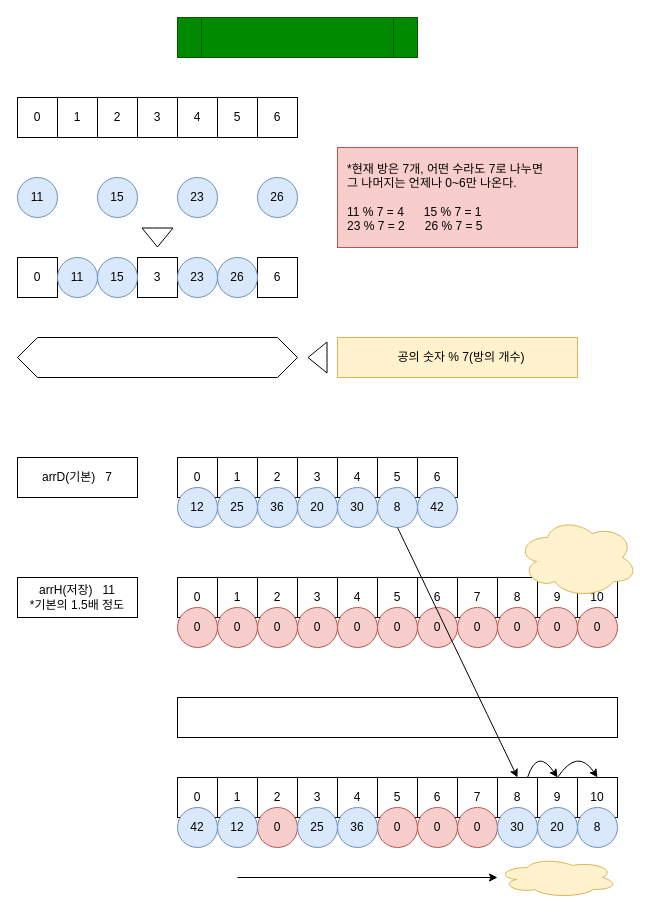
The diagram is 655 pixels wide and 915 high, and some of its shapes have lost their labels. Here are the shapes that lost their labels. From the top down, the centre of each, then its label:
At pixel 297 37: "Hash Search".
At pixel 157 357: "공을 넣은 칸의 번호".
At pixel 577 557: "0으로 초기화".
At pixel 397 717: "해시 함수 : 공의 숫자 % 11(방의 개수)".
At pixel 557 877: "오른쪽++".
